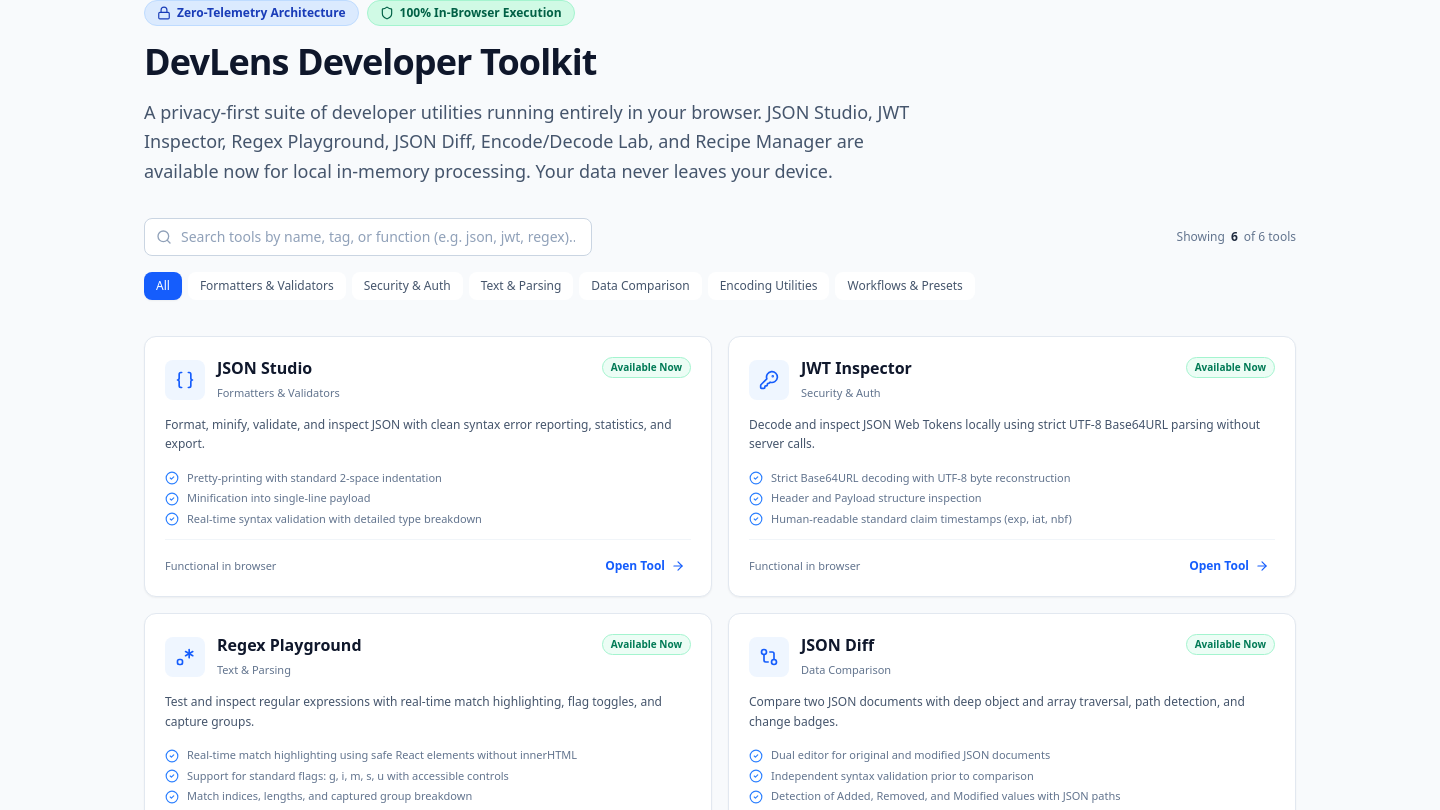
HomePage component › displays empty state when no tools match query
The image size is (1440, 810).
In the field with placeholder "Search tools by name": {"x": 368, "y": 237} left=144, top=218, right=592, bottom=256, type "nonexistentqueryxyz"
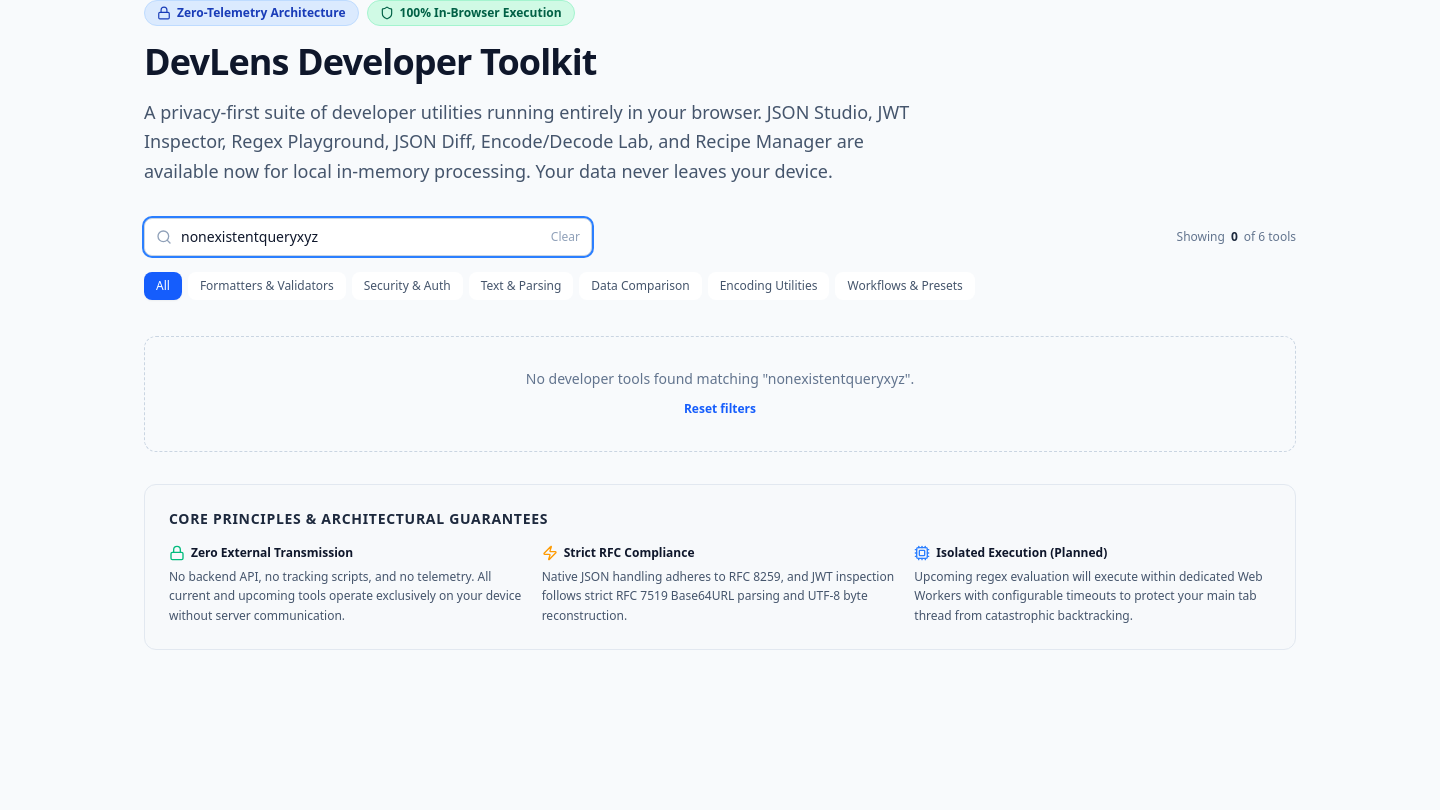
Expected: the text "No developer tools found matching \"nonexistentqueryxyz\"." is shown, left=526, top=369, right=914, bottom=388
